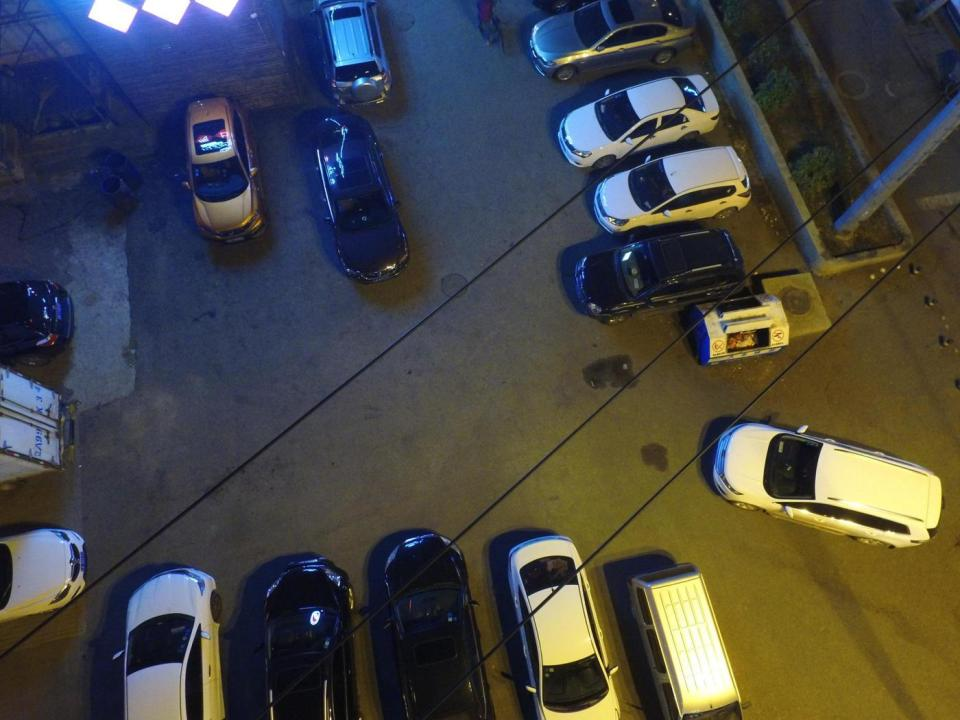car: (505, 534, 618, 720), (382, 535, 493, 720), (113, 567, 224, 720), (257, 558, 356, 720), (316, 115, 407, 283), (577, 232, 744, 321), (559, 75, 721, 164), (594, 146, 754, 230), (529, 1, 694, 78), (180, 94, 262, 244), (0, 528, 85, 626), (0, 280, 73, 366)
truck: (0, 366, 75, 490)
van: (710, 424, 942, 549), (624, 562, 749, 720), (311, 1, 392, 107)
